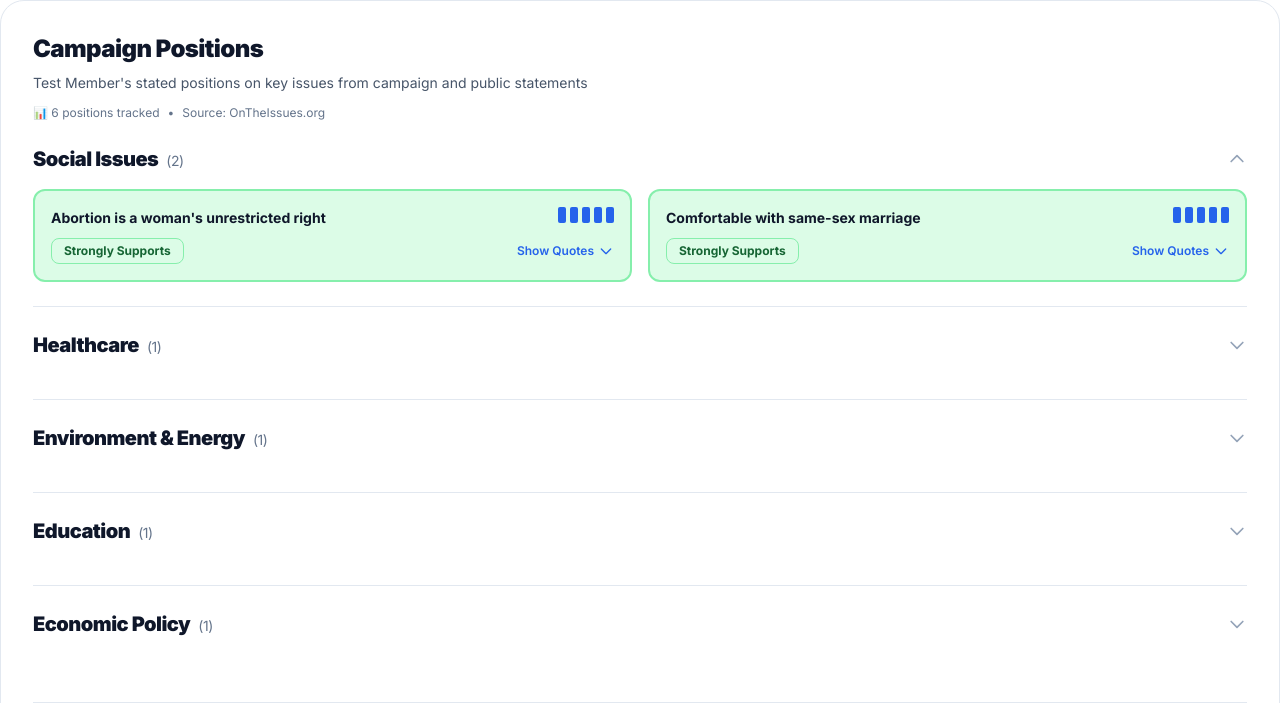
Test: CampaignPositions › expands and collapses categories
This screenshot has width=1280, height=703.
Check: the heading "Abortion is a woman's unrestricted right" is shown, box 51,209 -> 326,226
// Click to expand
Click the button "Healthcare(1)" at (86, 345), box 33,331 -> 1247,359
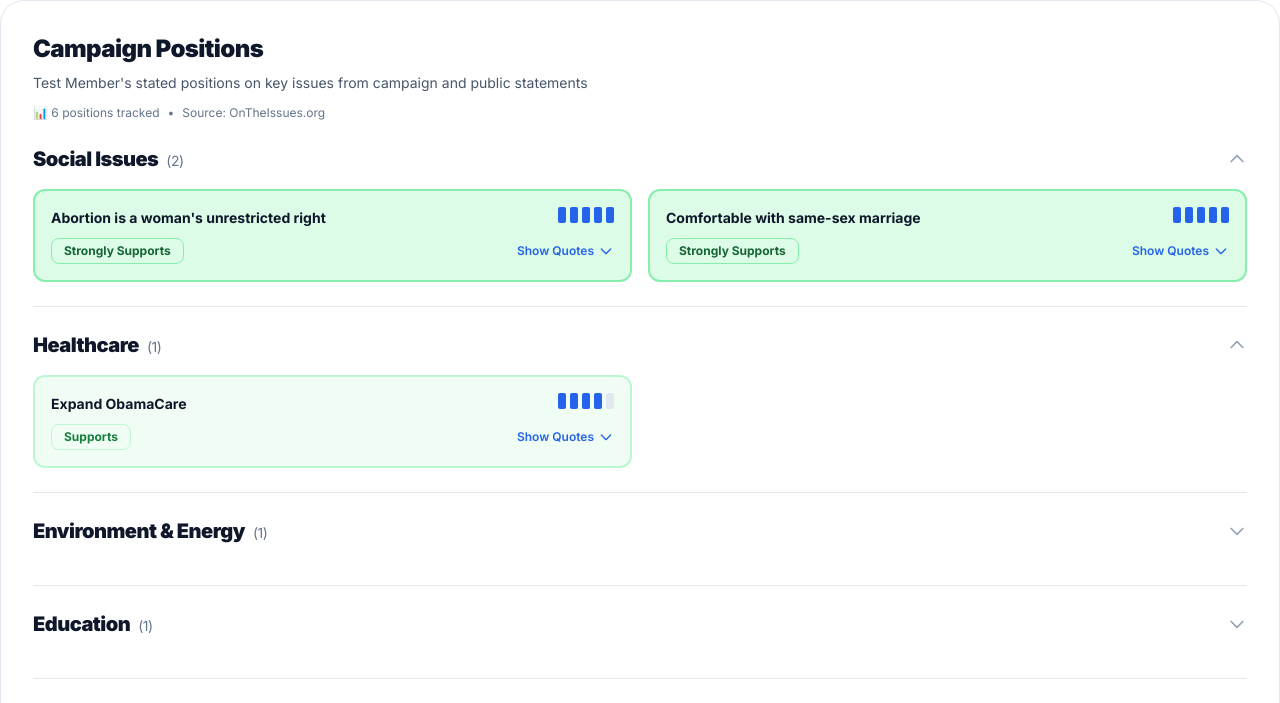
Check: the heading "Expand ObamaCare" is shown, box 51,395 -> 186,412
